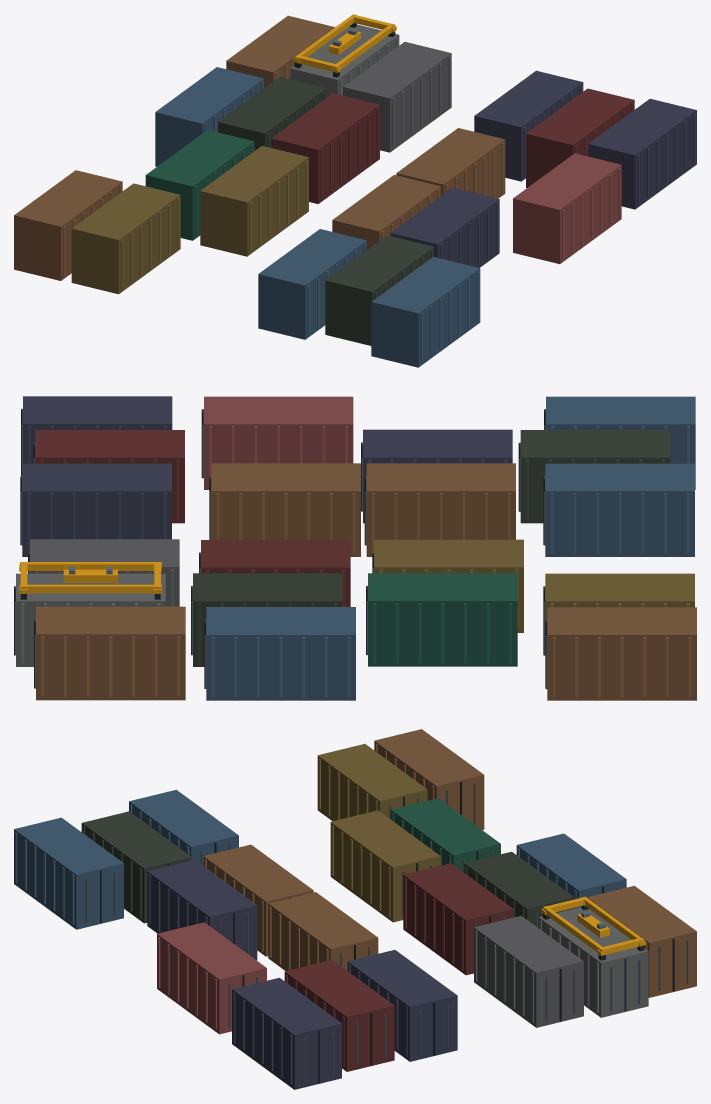
File: SeaportSystem-01-Container-01-20Footer-2-05.glb
3 views of the same model, one above another, from view 1: azimuth 30°, elevation 25°; view 2: azimuth 150°, elevation 25°; view 3: azimuth 270°, elevation 25° (orthographic). The views are drawn at different scales.
Parts seen in each view (by area): view 1: SeaportSystem-01-Container-01-20Footer-2-05; view 2: SeaportSystem-01-Container-01-20Footer-2-05; view 3: SeaportSystem-01-Container-01-20Footer-2-05.
Boxes of the visible parts, box(x1,y1,x2,y2) form: SeaportSystem-01-Container-01-20Footer-2-05: box(14, 14, 696, 367); SeaportSystem-01-Container-01-20Footer-2-05: box(14, 396, 696, 700); SeaportSystem-01-Container-01-20Footer-2-05: box(14, 729, 696, 1089).
Bounding box in the file's own units: 76.47 × 8.25 × 72.14.
